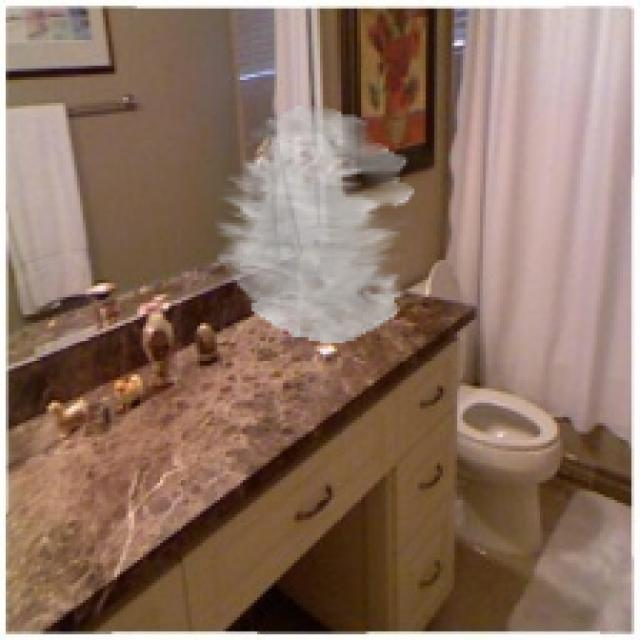smoke: (214, 106, 414, 343)
